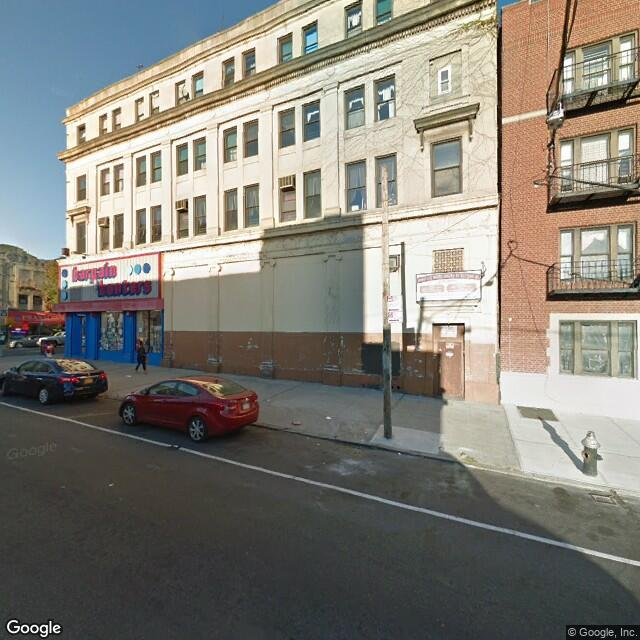litter: (94, 472, 131, 489), (288, 414, 315, 429), (390, 449, 423, 461), (316, 410, 343, 423)
